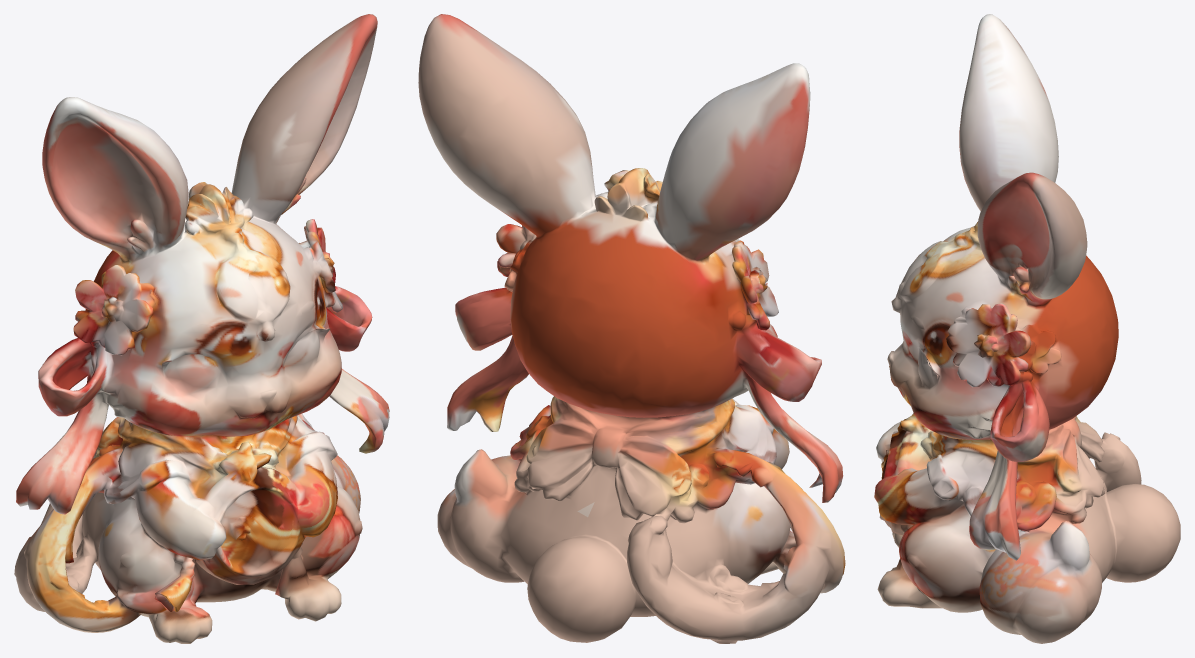
The model's file is original.glb.
The picture shows the model from 3 angles, left to right: view 1: azimuth 30°, elevation 25°; view 2: azimuth 150°, elevation 25°; view 3: azimuth 270°, elevation 25°; orthographic projection. The views are drawn at different scales.
Visible parts, largest first — view 1: Body; view 2: Body; view 3: Body.
Boxes of the visible parts, left/top/right/bottom form: Body: left=14, top=14, right=389, bottom=643; Body: left=418, top=14, right=845, bottom=643; Body: left=874, top=14, right=1180, bottom=643.
Size of the model in its own units: 0.7465 by 1 by 0.5552.
Materials: 1 (1 with a texture image).
